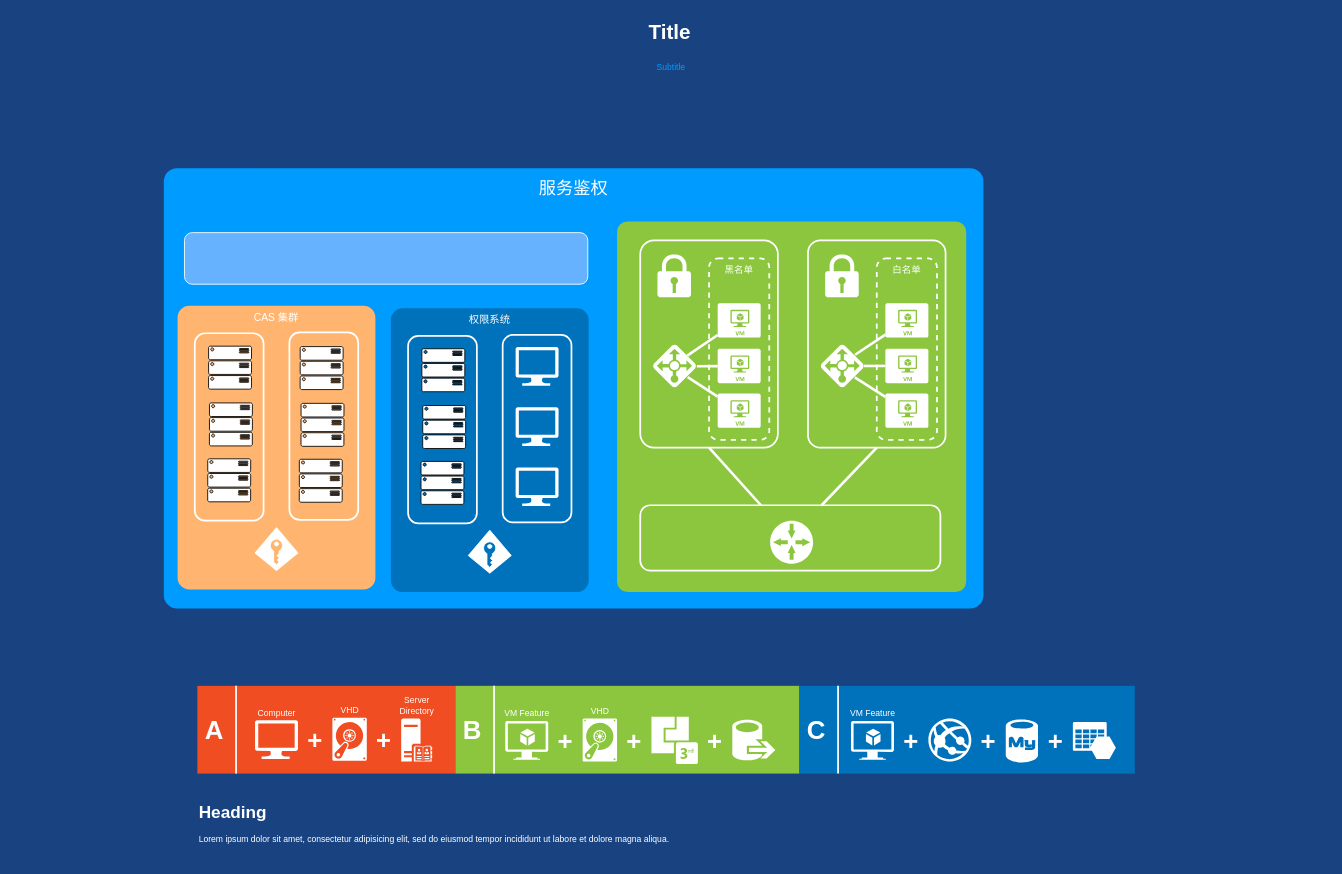
Image size: 1342x874. Some labels were removed from this diagram. The shapes that lost their labels are listed below. From the top down, each one's box as (x1, y1, x2, y2) in pixels, then its label:
(770, 520, 813, 563): Gateway
(651, 716, 697, 764): 3rd Party Integration
(732, 719, 775, 760): Data Migration Wizard
(928, 718, 971, 761): Azure Website
(1005, 719, 1038, 762): MySQL Database
(1072, 722, 1115, 759): Azure Storage
